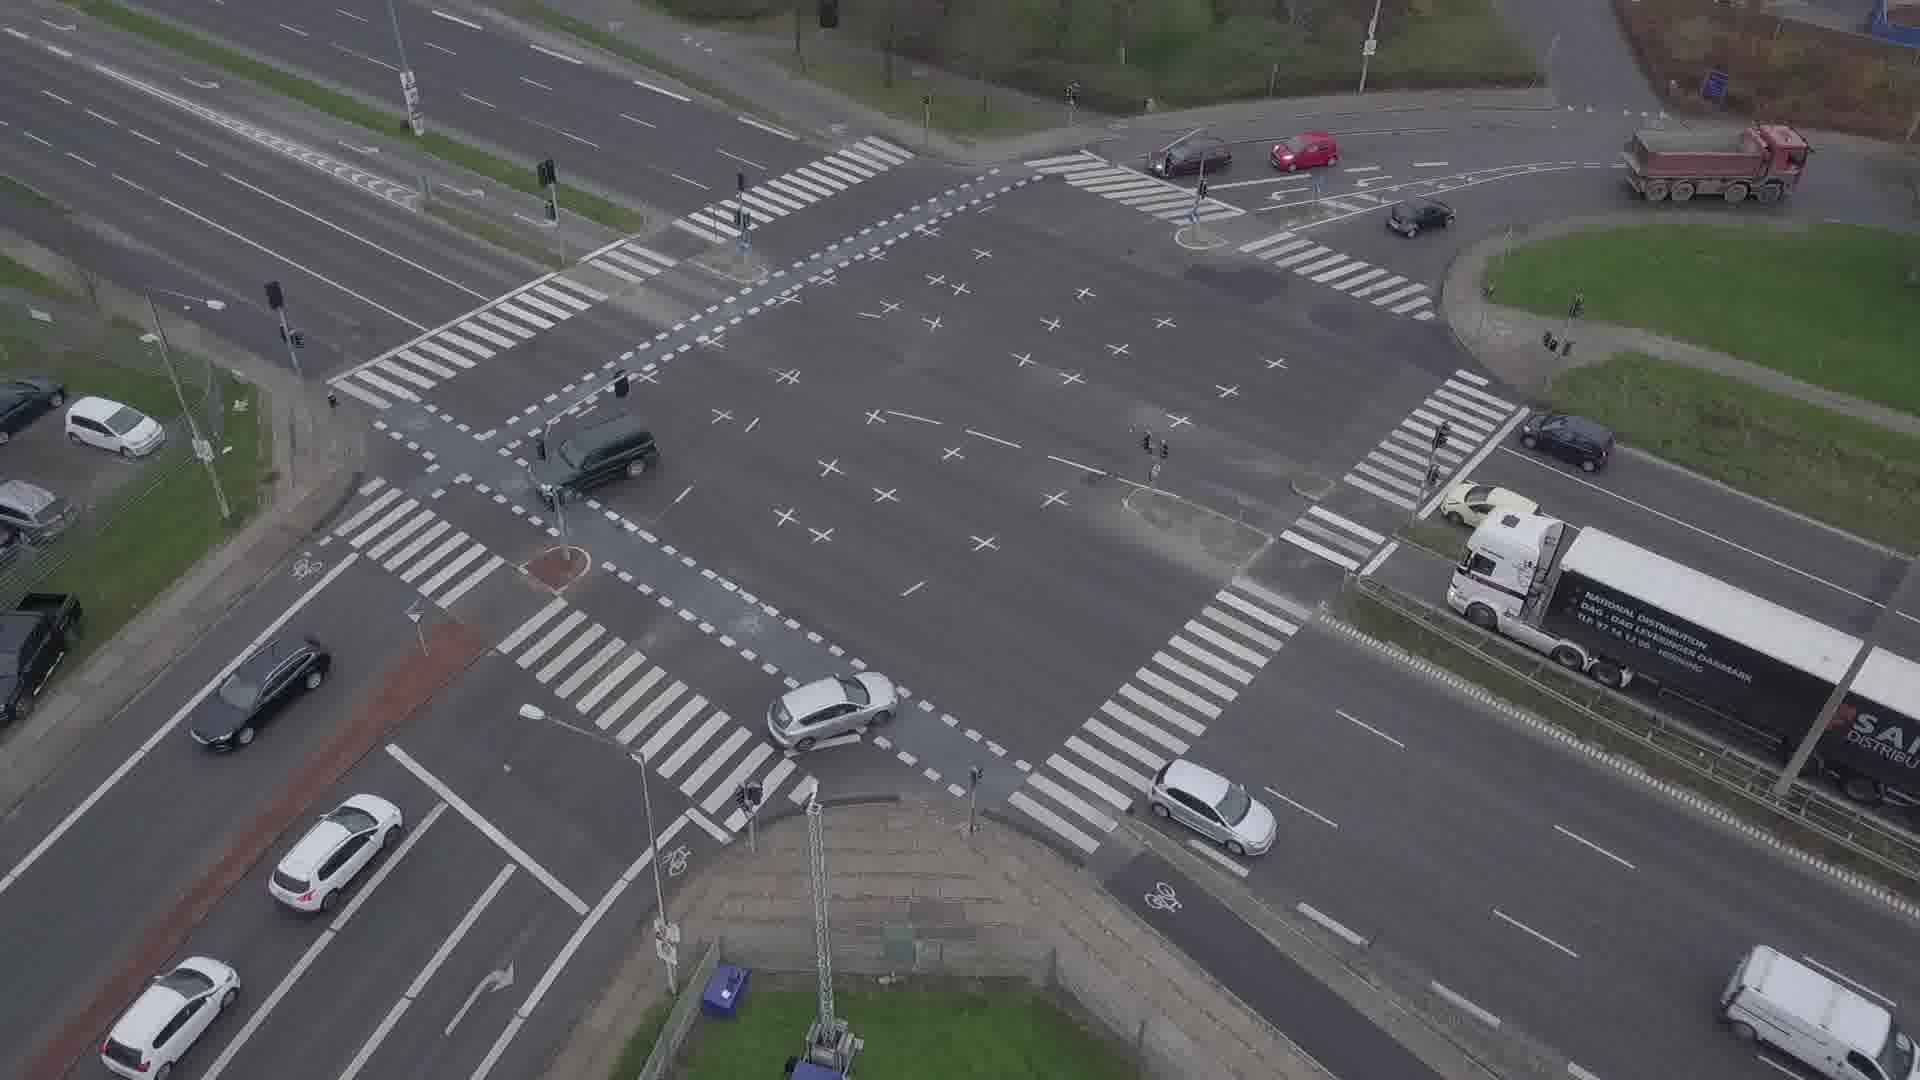car: (101, 956, 242, 1080), (190, 635, 332, 753), (268, 792, 402, 912), (1146, 759, 1278, 856), (527, 416, 660, 504), (767, 671, 898, 751), (1521, 413, 1616, 472), (1441, 483, 1544, 528), (1146, 137, 1233, 176), (1385, 197, 1456, 239), (1271, 129, 1339, 170)
lorry: (1446, 505, 1920, 807), (1719, 946, 1920, 1080), (1628, 123, 1809, 205)
